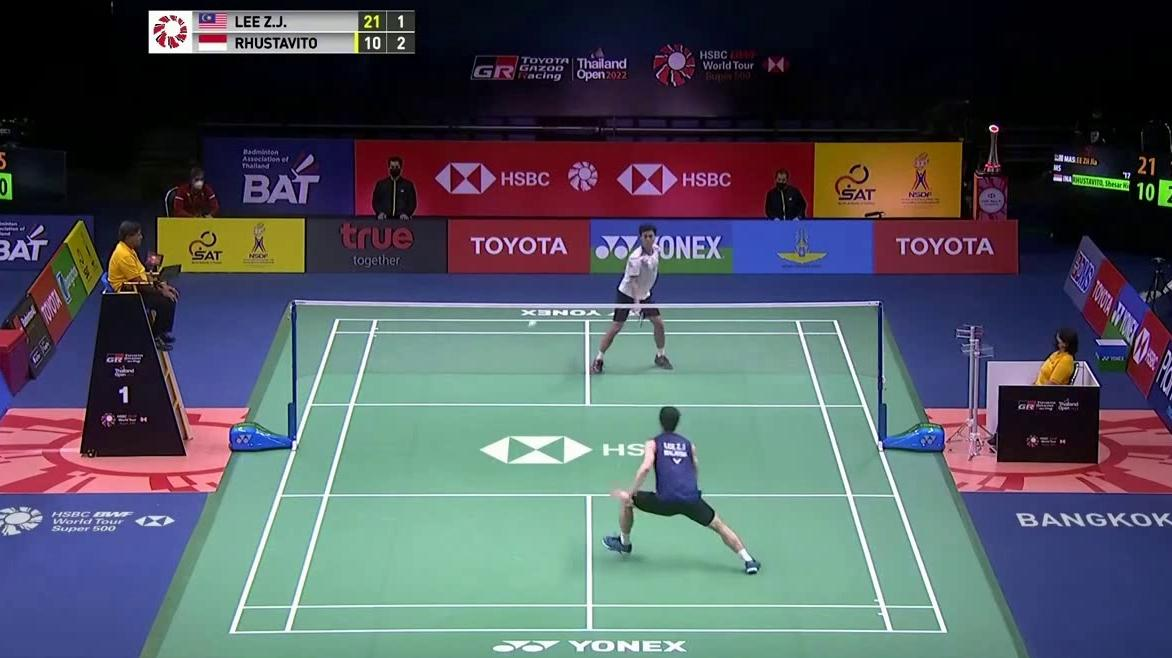racket: (633, 308, 643, 327)
shuttle: (529, 319, 539, 327)
